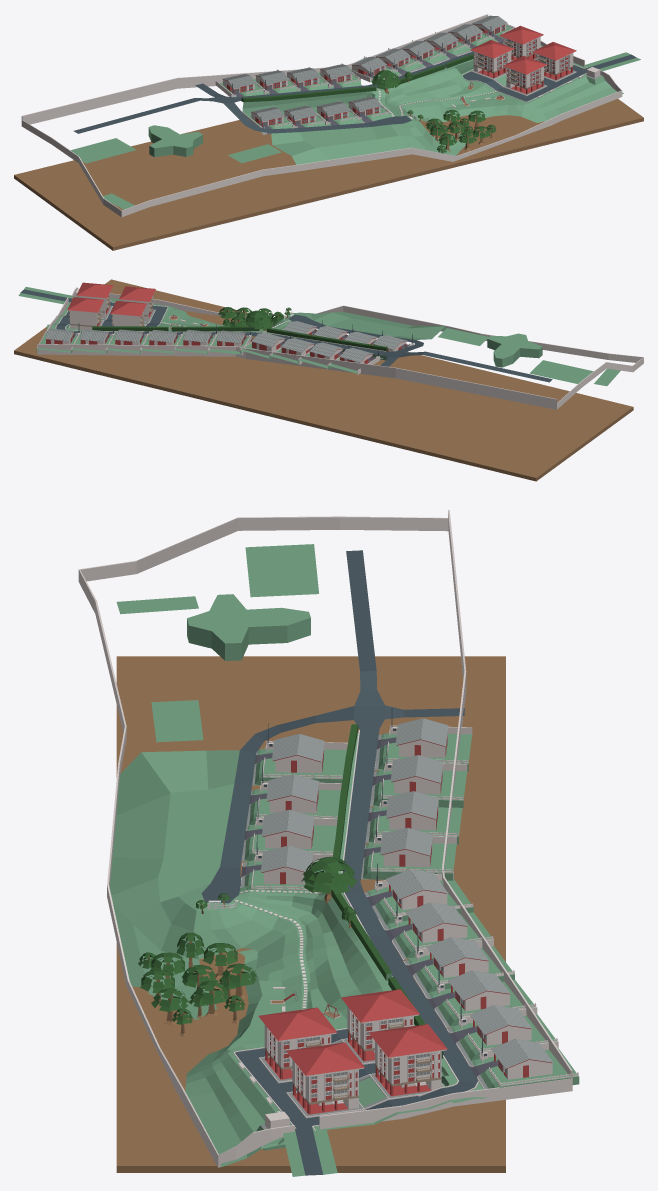
Rendered from santos_dumont_merged.gltf.
The picture shows the model from 3 angles, top to bottom: view 1: azimuth 30°, elevation 25°; view 2: azimuth 150°, elevation 25°; view 3: azimuth 270°, elevation 25°; orthographic projection. The views are drawn at different scales.
Visible parts, largest first — view 1: Length-310m, grama, muro, clube, rua, preio-telhado (×4), rua.002, cerca-viva, Plane.006; view 2: Length-310m, muro, grama, clube, preio-telhado (×4), rua, cerca-viva, rua.002, Plane.006; view 3: Length-310m, grama, cerca-casa (×13), muro, roof.001 (×14), rua, clube, preio-telhado (×4), rua.002, rua.003, cerca-viva, predio-base (×2) (+1 smaller).
Boxes of the visible parts, box(x1,y1,x2,y2) form: Length-310m: box(14, 99, 643, 250); grama: box(242, 59, 623, 164); muro: box(21, 14, 622, 217); clube: box(71, 125, 281, 209); rua: box(73, 83, 411, 133); preio-telhado (×4): box(470, 25, 576, 74); rua.002: box(463, 45, 640, 101); cerca-viva: box(241, 53, 473, 102); Plane.006: box(372, 70, 400, 93); Length-310m: box(14, 279, 633, 481); muro: box(37, 287, 643, 409); grama: box(65, 298, 446, 360); clube: box(438, 328, 620, 386); preio-telhado (×4): box(67, 282, 155, 316); rua: box(252, 314, 552, 382); cerca-viva: box(92, 326, 387, 351); rua.002: box(18, 287, 167, 326); Plane.006: box(244, 310, 272, 330); Length-310m: box(116, 656, 505, 1172); grama: box(109, 732, 456, 1167); cerca-casa (×13): box(241, 733, 579, 1089); muro: box(78, 510, 572, 1167); roof.001 (×14): box(260, 718, 553, 1068); rua: box(201, 550, 464, 903); clube: box(116, 544, 318, 742); preio-telhado (×4): box(258, 989, 447, 1076); rua.002: box(235, 1029, 451, 1176); rua.003: box(345, 892, 487, 1103); cerca-viva: box(331, 724, 443, 1058); predio-base (×2): box(286, 1067, 443, 1118).
Bounding box in the file's own units: 339 × 41.7 × 129.
